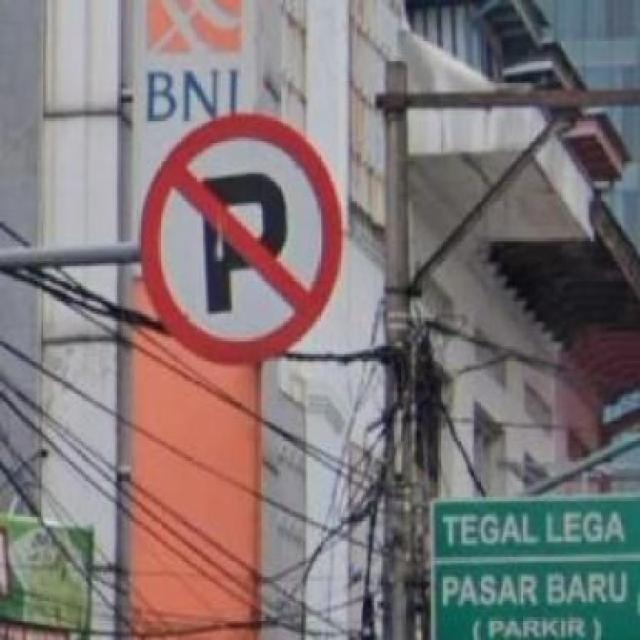no parking: (146, 110, 342, 366)
